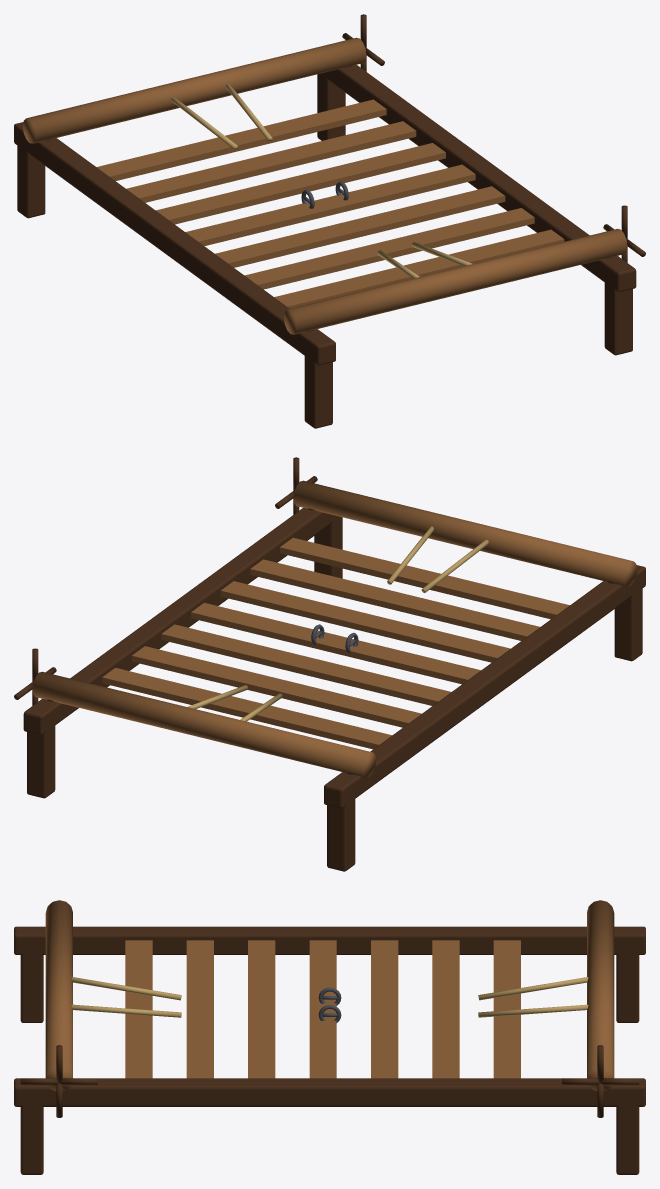
The model's file is rack.glb.
The picture shows the model from 3 angles, top to bottom: view 1: azimuth 30°, elevation 25°; view 2: azimuth 150°, elevation 25°; view 3: azimuth 270°, elevation 25°; orthographic projection. The views are drawn at different scales.
Visible parts, largest first — view 1: rack; view 2: rack; view 3: rack.
Boxes of the visible parts, x1=… form: rack: x1=14, y1=14, x2=645, y2=428; rack: x1=14, y1=457, x2=645, y2=871; rack: x1=14, y1=900, x2=645, y2=1174.
Size of the model in its own units: 1.77 by 0.65 by 2.78.
